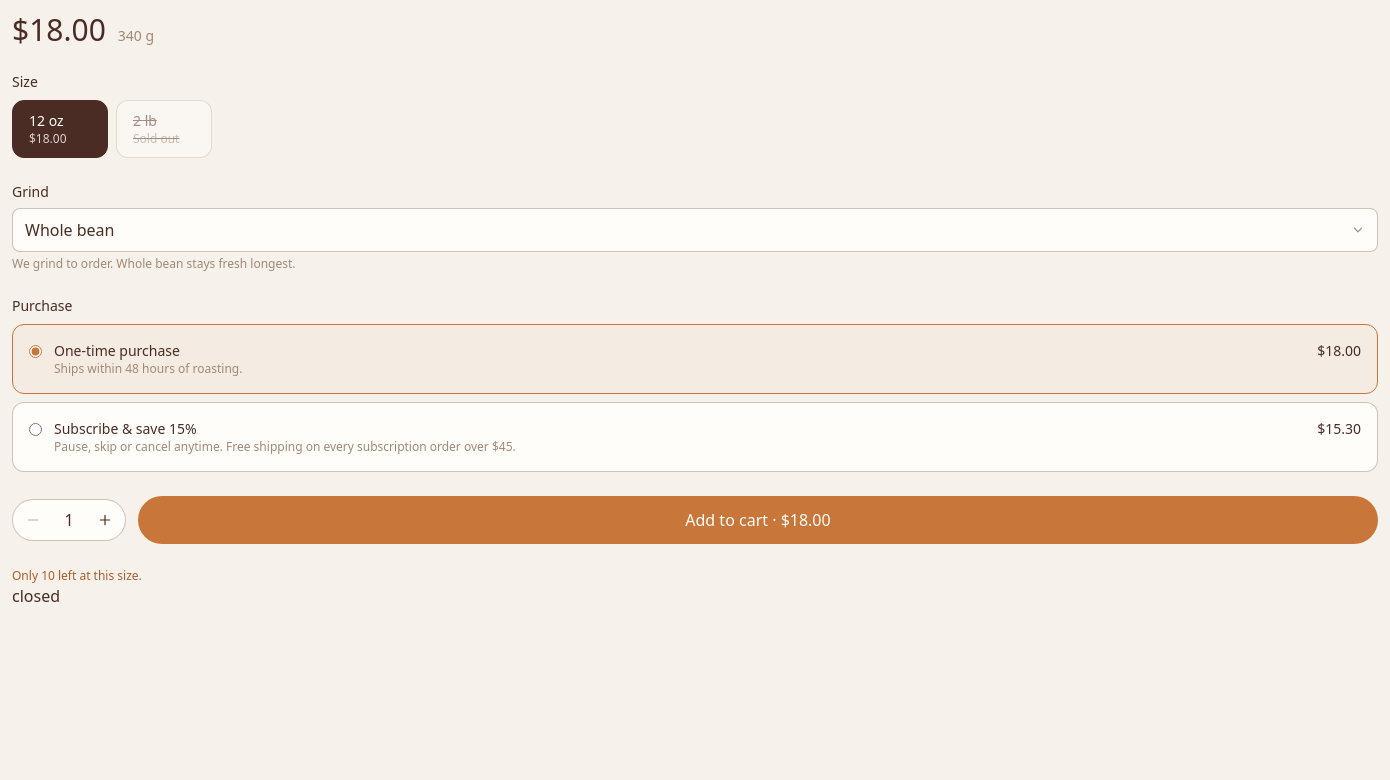
it: AddToCartForm › changes quantity and keeps price per unit
The image size is (1390, 780).
Click the button named "Increase quantity". click: click(105, 520)
box: [85,500,125,540]
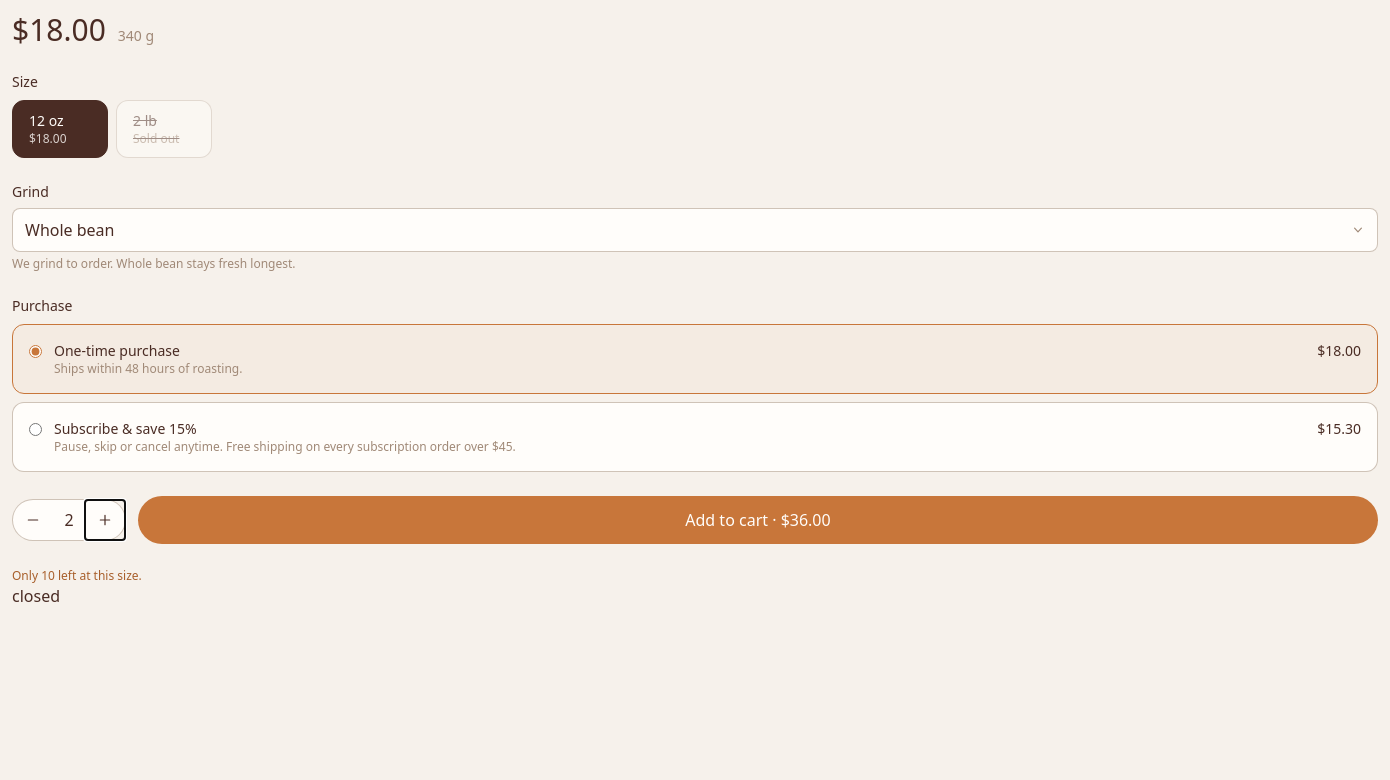
Expected: the button "Add to cart · $36.00" is shown, [138,496,1378,544]
